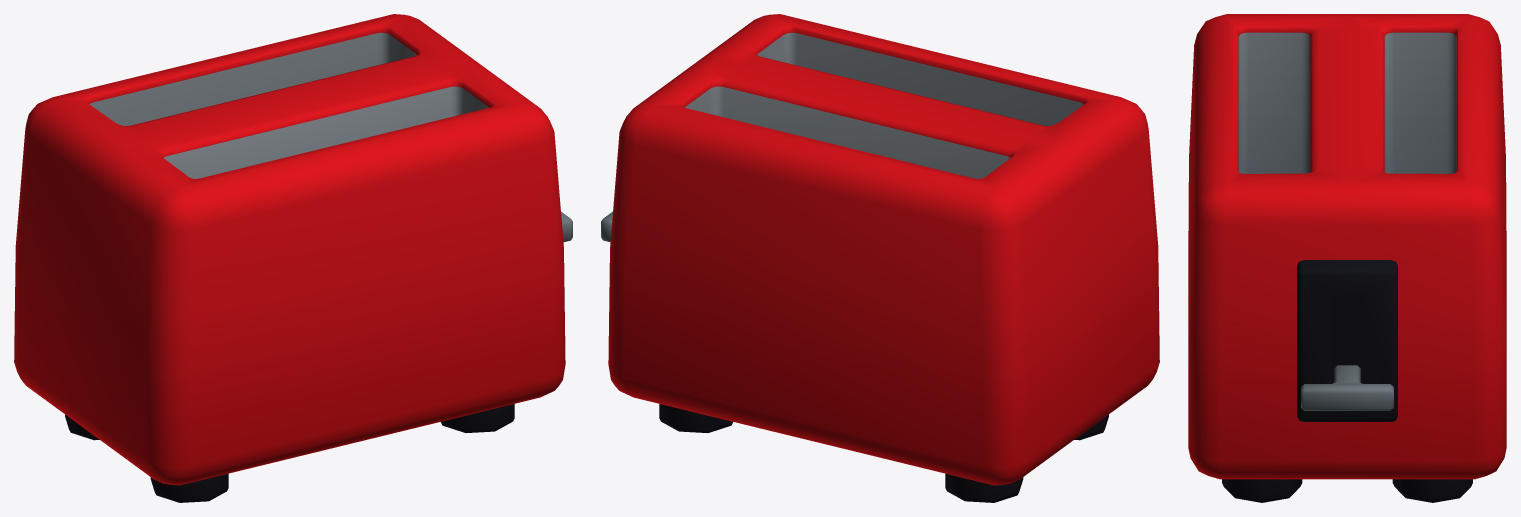
The model's file is Toaster_red.fbx.
3 views of the same model, side by side, from view 1: azimuth 30°, elevation 25°; view 2: azimuth 150°, elevation 25°; view 3: azimuth 270°, elevation 25° (orthographic).
Parts seen in each view (by area): view 1: Toaster_red; view 2: Toaster_red; view 3: Toaster_red, Toaster_switch.001.
Boxes of the visible parts, x1,y1,x2,y2 form: Toaster_red: (14,14,565,502); Toaster_red: (608,14,1159,502); Toaster_red: (1188,14,1506,502); Toaster_switch.001: (1301,365,1393,410).
Bounding box in the file's own units: 84.6 × 55.25 × 49.97.
